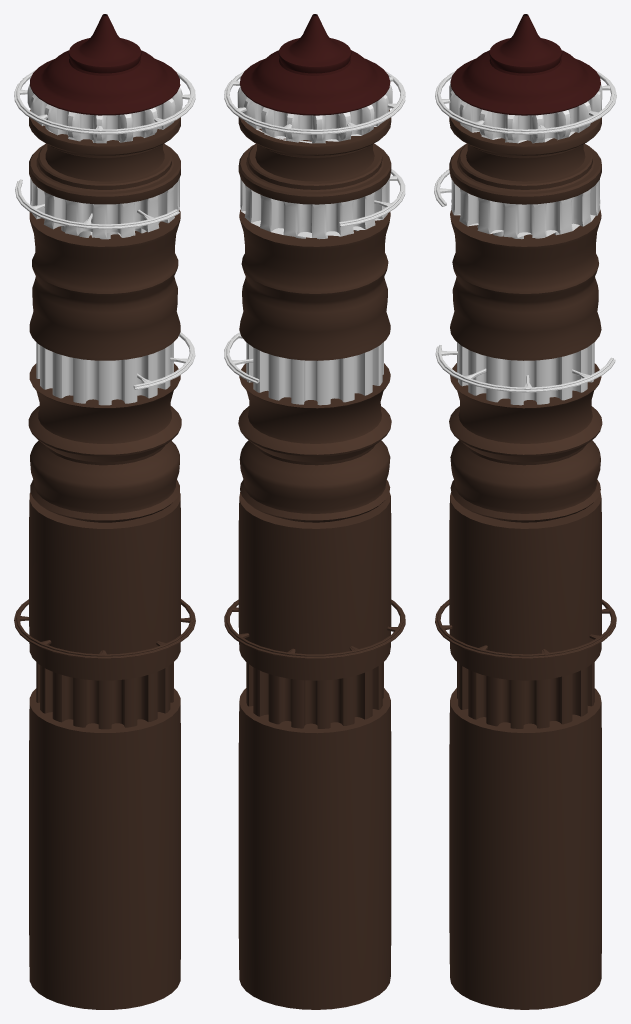
The model's file is FullTower_01_Prototyp_Mesh.fbx.
3 renders of one model, left to right at view 1: azimuth 30°, elevation 25°; view 2: azimuth 150°, elevation 25°; view 3: azimuth 270°, elevation 25°, orthographic.
Visible parts, largest first — view 1: Cylinder.027; view 2: Cylinder.027; view 3: Cylinder.027.
Boxes of the visible parts, x1,y1,x2,y2 form: Cylinder.027: (14, 14, 195, 1009); Cylinder.027: (224, 14, 405, 1009); Cylinder.027: (434, 14, 616, 1009).
Bounding box in the file's own units: 801 × 4679 × 805.
